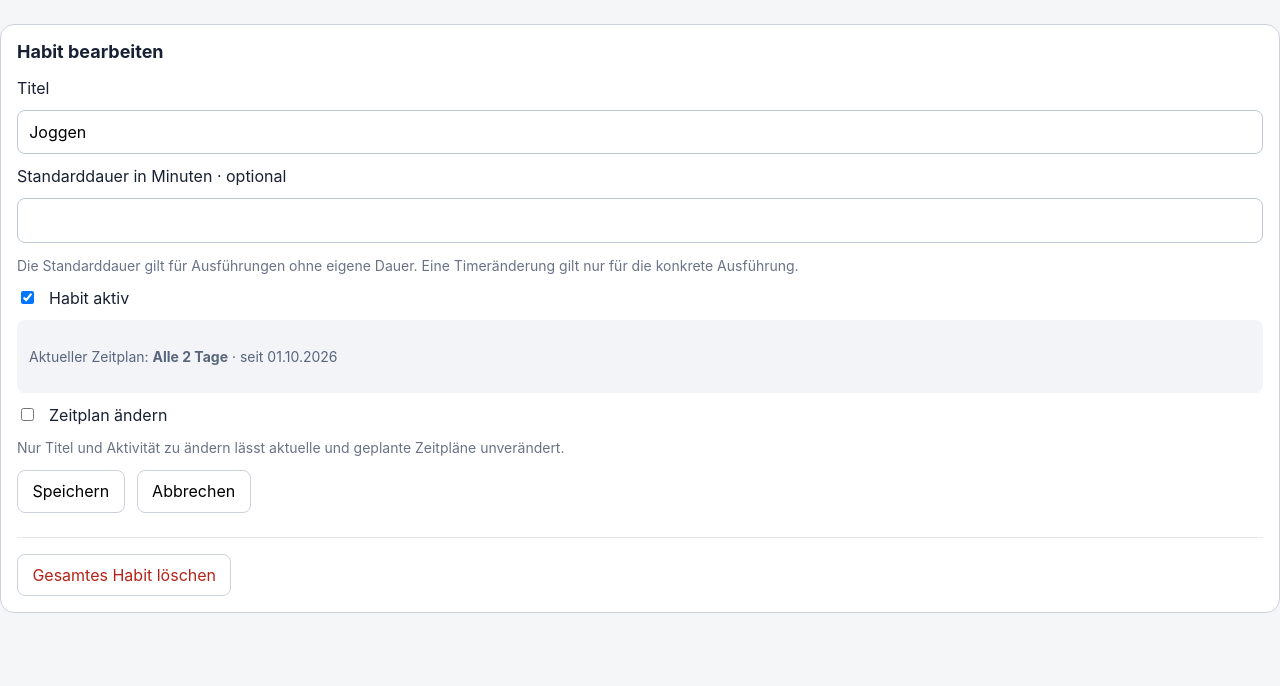
Test: PlannerItemEditor › rejects invalid or past effective date '' before any write
Step 1. Click the checkbox named "changeSchedule" → (28, 415), box [21, 408, 34, 421]
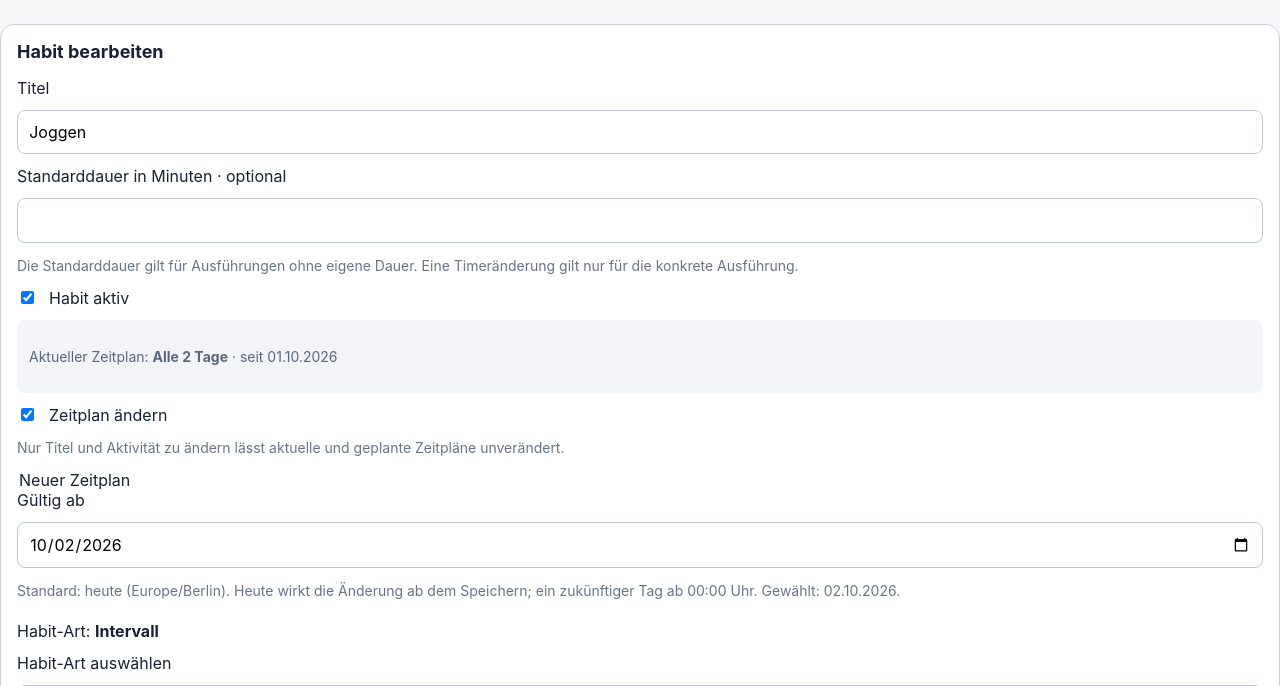
Step 2. Replace the text in the field named "title" with "Neuer Titel" → (640, 132), box [17, 110, 1263, 154]
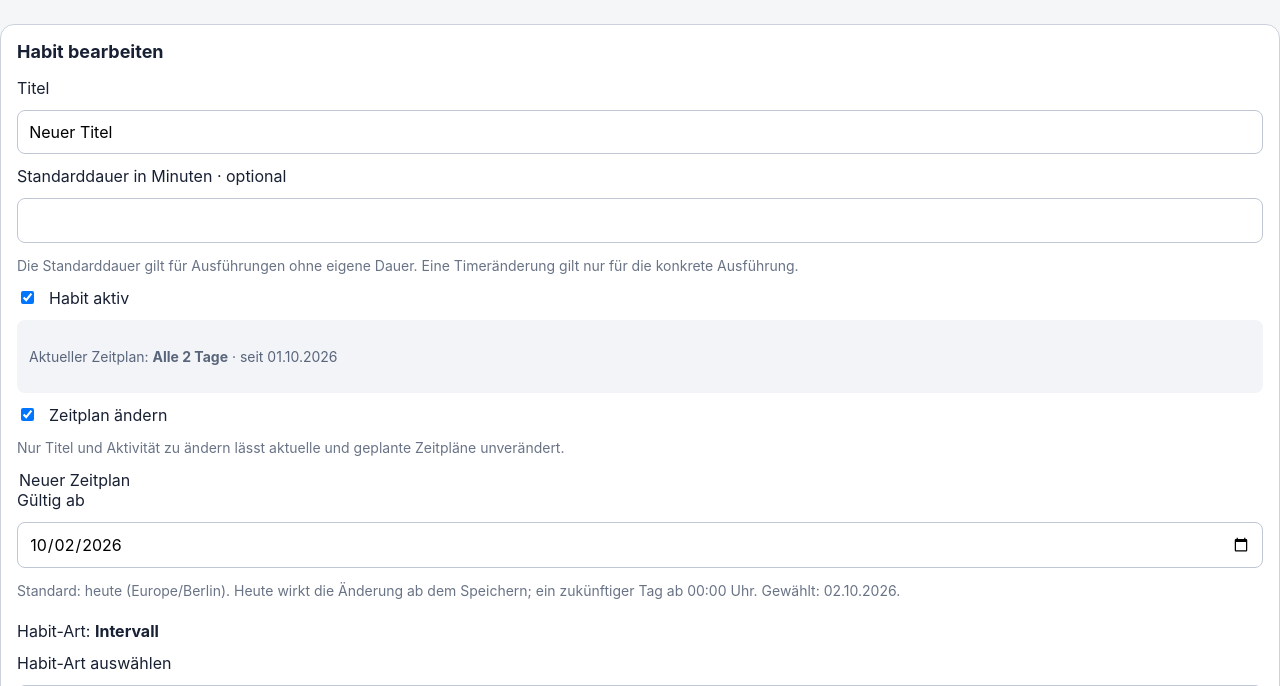
Step 3. Clear the date field named "effectiveFrom" → (640, 545), box [17, 522, 1263, 568]
(page scrolled)
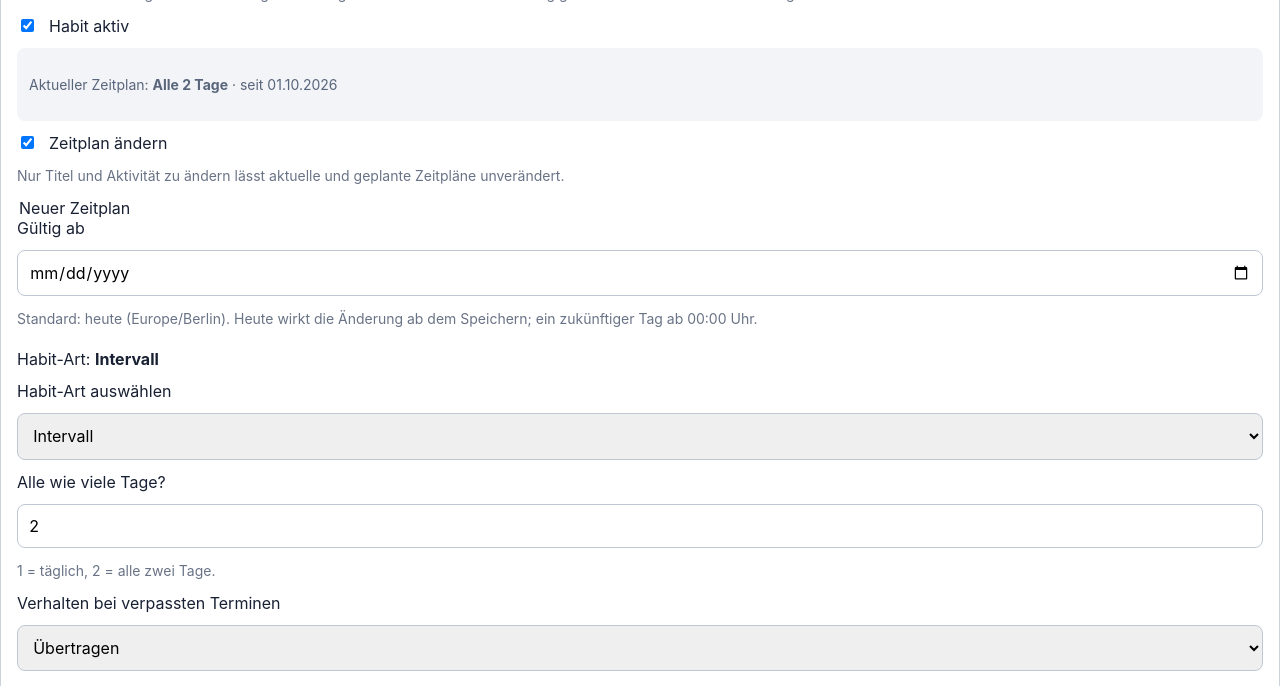
Step 4. Submit the form
(page scrolled)
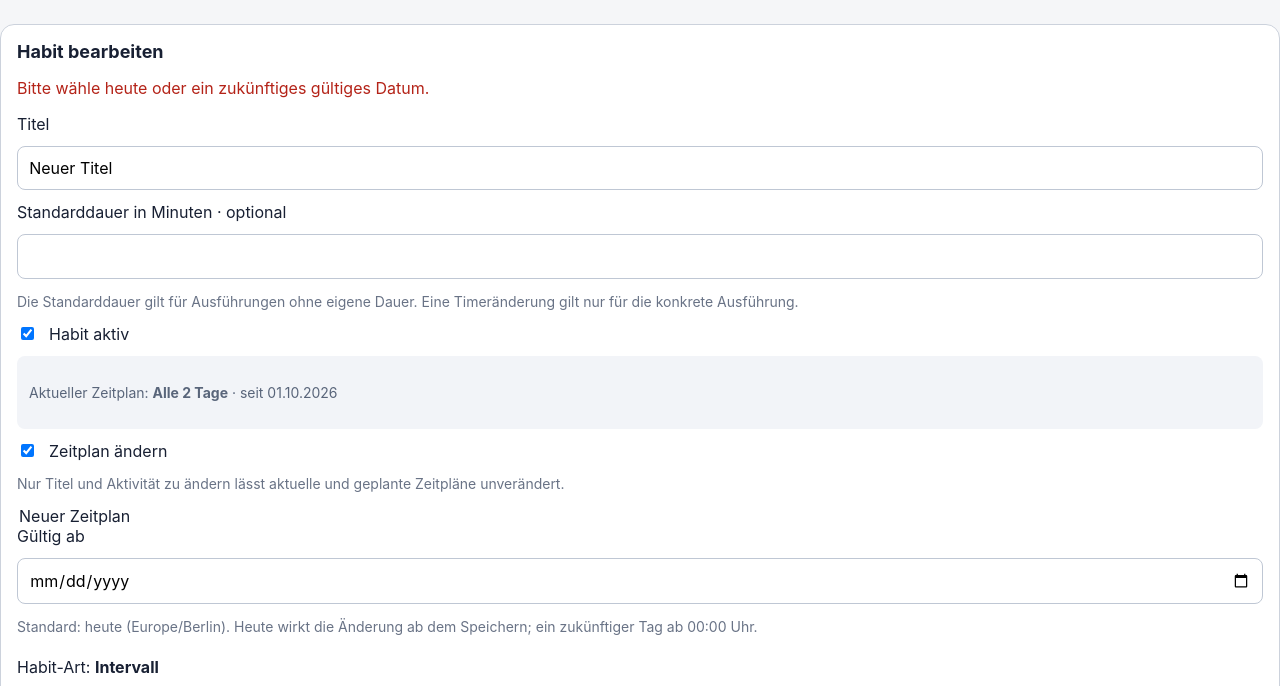
Now the message "Bitte wähle heute oder ein zukünftiges gültiges Datum." is shown, box [17, 78, 429, 98]
